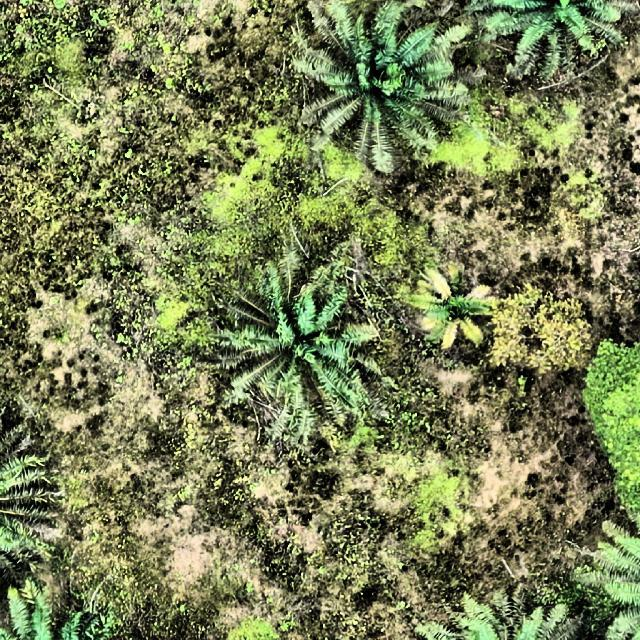Kelapa_Sawit: (231, 272, 389, 428), (306, 12, 464, 156), (482, 0, 628, 76), (424, 576, 578, 640), (0, 421, 56, 570), (415, 268, 500, 352), (3, 580, 118, 640), (584, 518, 640, 638)
